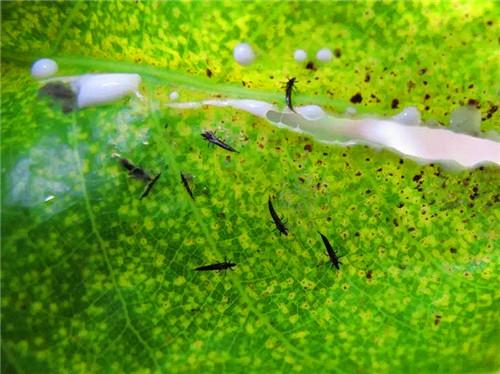Phlaeothripidae: (199, 127, 242, 157), (317, 225, 342, 273), (267, 192, 289, 237), (188, 256, 238, 275), (280, 73, 299, 116), (136, 171, 162, 202), (121, 158, 152, 184), (180, 169, 193, 203)
